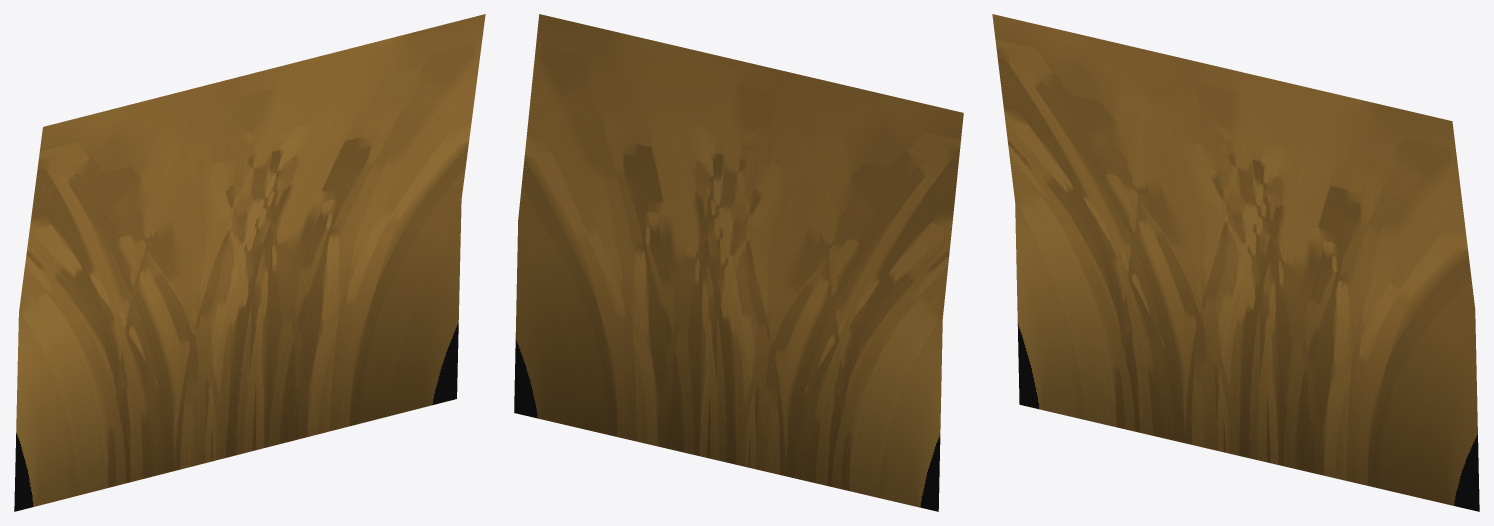
Rendered from desert_grass_1_burnt2.glb.
The picture shows the model from 3 angles, left to right: view 1: azimuth 30°, elevation 25°; view 2: azimuth 150°, elevation 25°; view 3: azimuth 330°, elevation 25°; orthographic projection. The views are drawn at different scales.
Parts seen in each view (by area): view 1: desert_grass_1_burnt2; view 2: desert_grass_1_burnt2; view 3: desert_grass_1_burnt2.
Boxes of the visible parts, <box> form: desert_grass_1_burnt2: <box>14,14,485,511</box>; desert_grass_1_burnt2: <box>514,14,963,511</box>; desert_grass_1_burnt2: <box>992,14,1479,511</box>.
Size of the model in its own units: 0.5267 by 0.4544 by 0.0667.
Materials: 1 (1 with a texture image).
